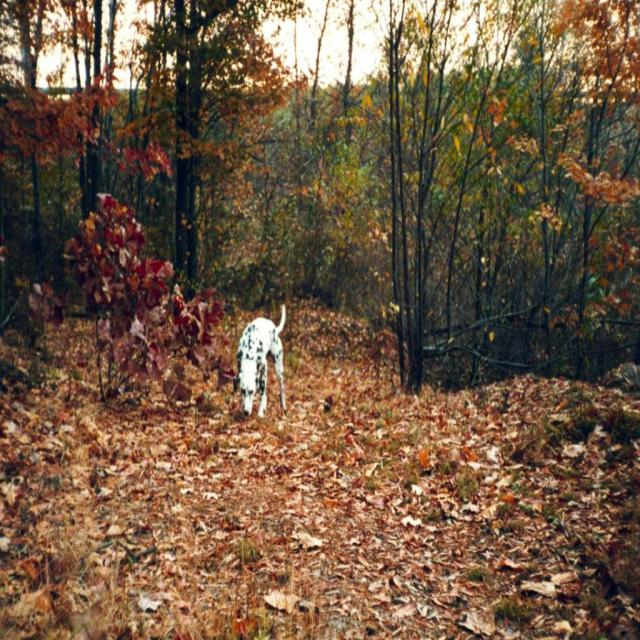Dog: (230, 300, 284, 422)
